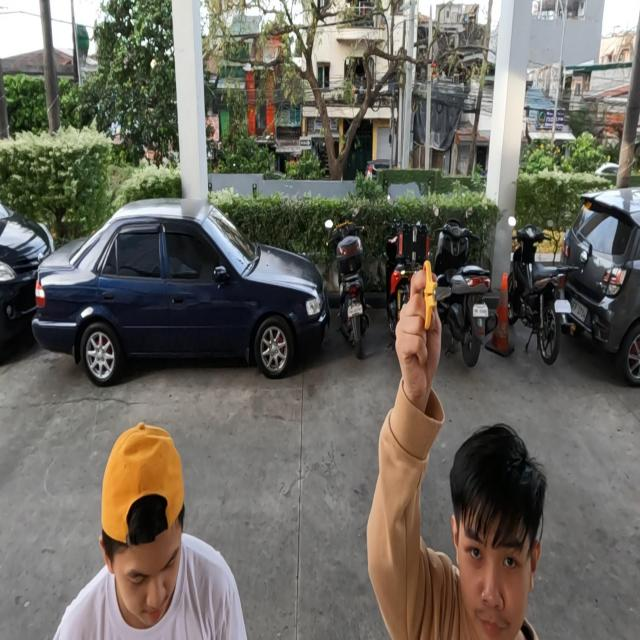scissor: (424, 259, 452, 329)
